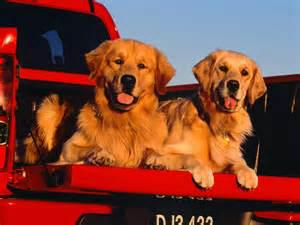dog: (36, 39, 174, 166), (159, 50, 265, 188)
